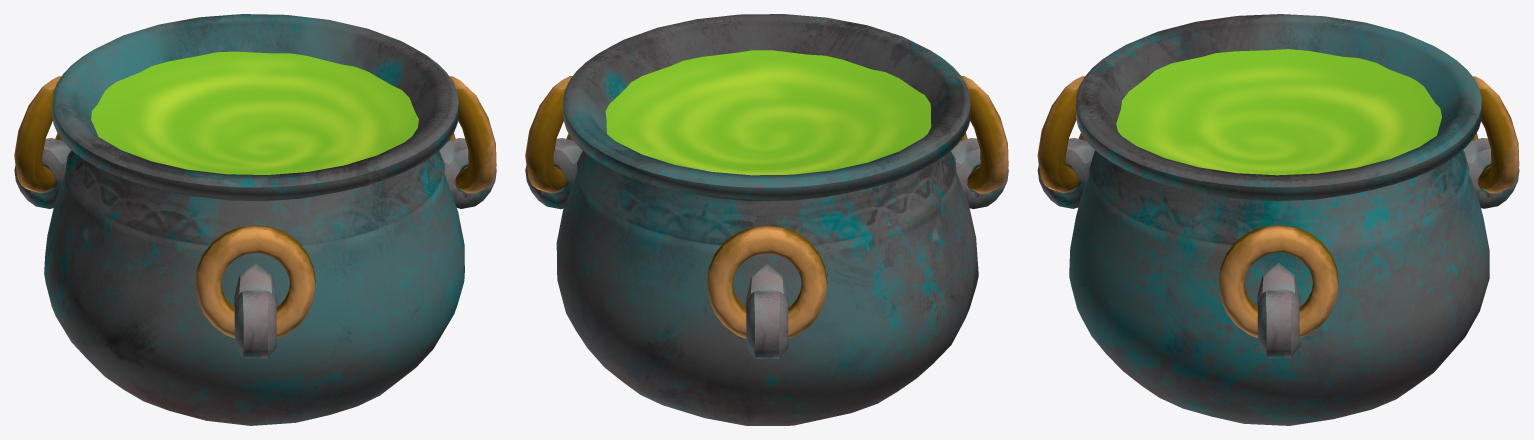
The model's file is SM_Potion_Props_Pot_01_D.fbx.
3 views of the same model, side by side, from view 1: azimuth 30°, elevation 25°; view 2: azimuth 150°, elevation 25°; view 3: azimuth 270°, elevation 25° (orthographic).
Visible parts, largest first — view 1: SM_Potion_Props_Pot_01_D_LOD0; view 2: SM_Potion_Props_Pot_01_D_LOD0; view 3: SM_Potion_Props_Pot_01_D_LOD0.
Boxes of the visible parts, x1,y1,x2,y2 form: SM_Potion_Props_Pot_01_D_LOD0: (14,14,496,425); SM_Potion_Props_Pot_01_D_LOD0: (525,14,1008,425); SM_Potion_Props_Pot_01_D_LOD0: (1037,14,1519,425).
Size of what is drawn, in the model's own units: 111 by 77.1 by 111.
